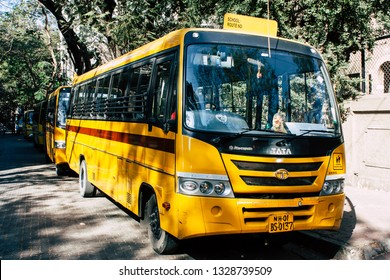bus: (66, 26, 345, 254)
